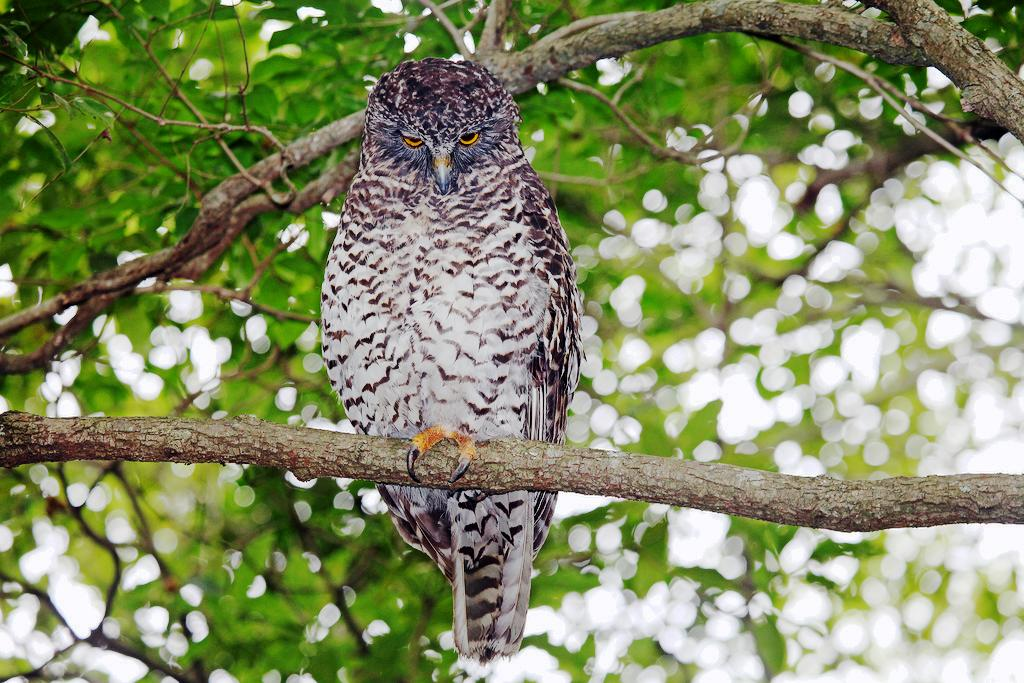Owl: (322, 57, 586, 672)
